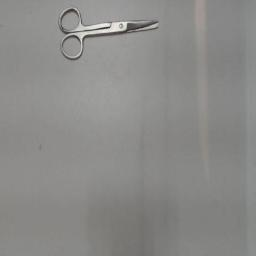Dressing Scissors: (52, 2, 168, 68)
